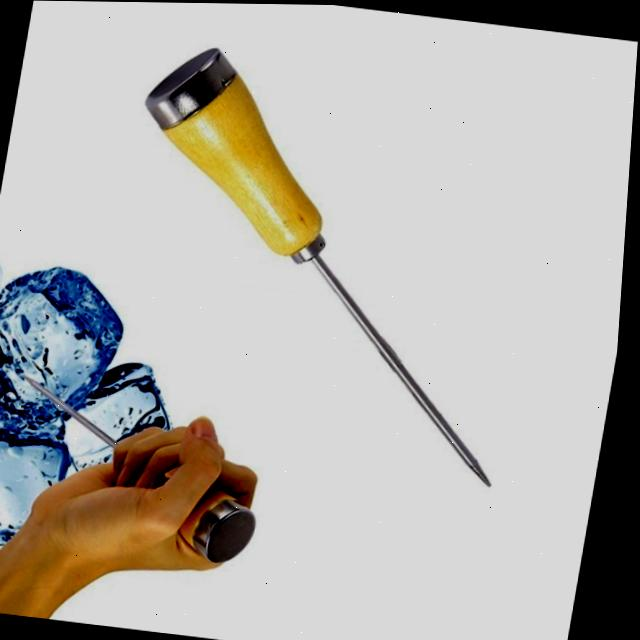ice pick: (88, 35, 560, 490), (0, 374, 280, 566)
